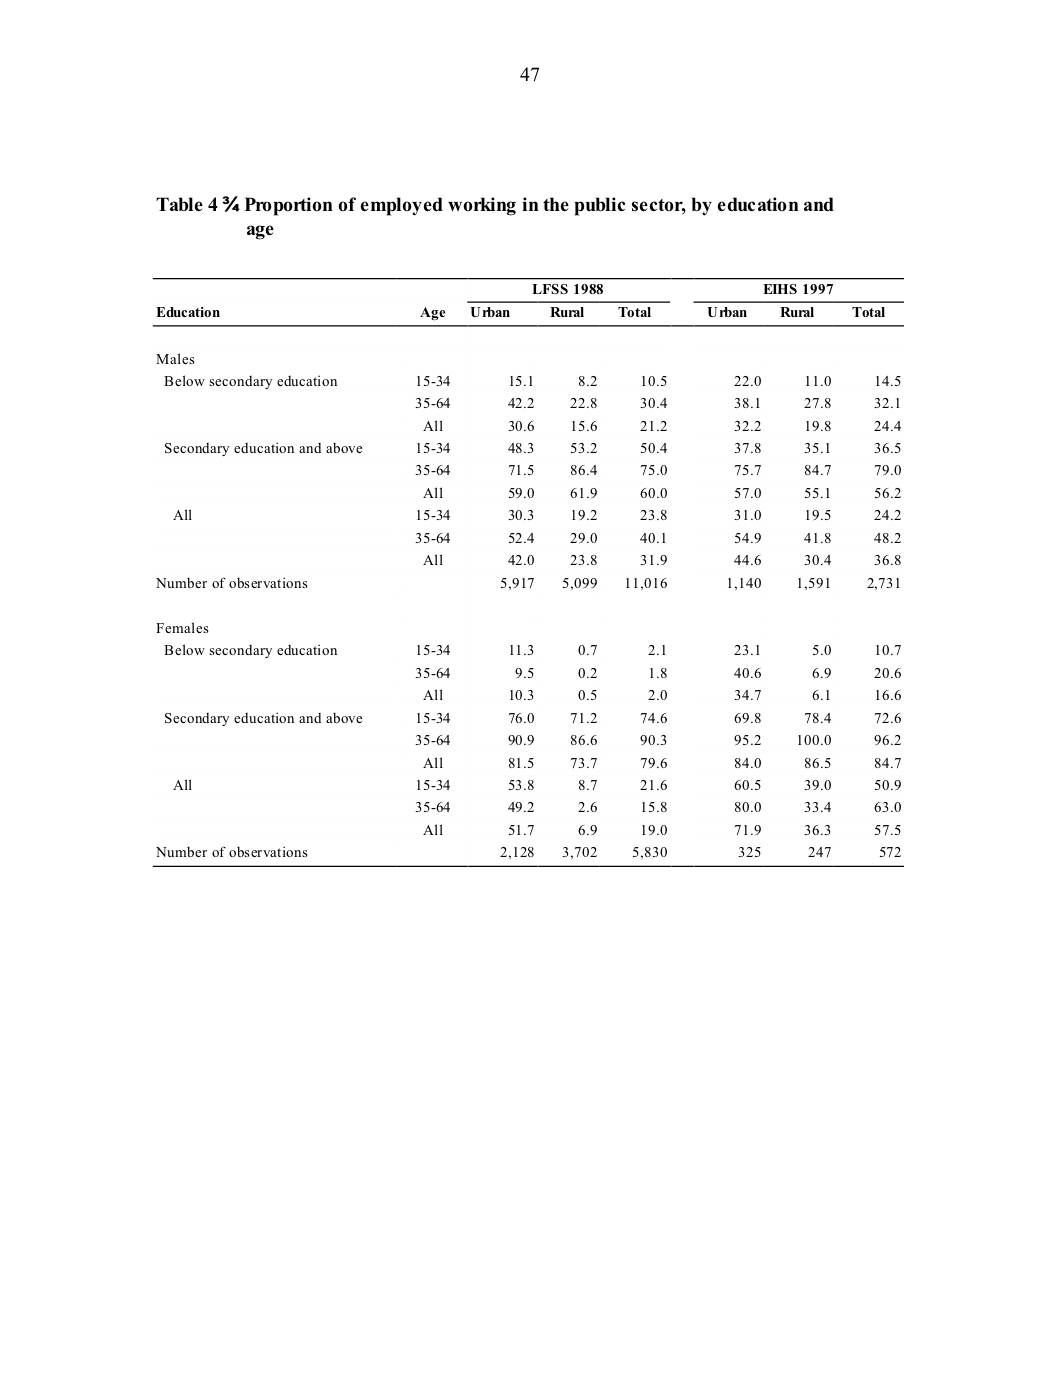Table: (152, 277, 903, 866)
